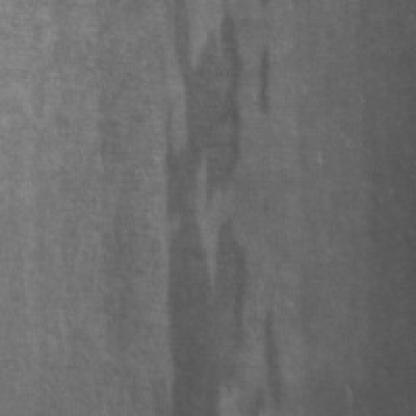inclusion: (156, 0, 258, 412), (245, 281, 296, 412), (247, 25, 292, 129)
